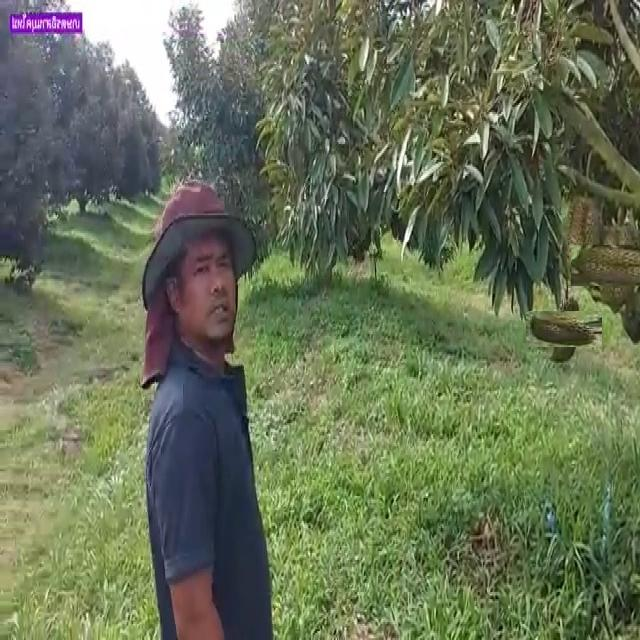durian: (584, 231, 640, 299), (563, 188, 605, 276), (535, 301, 592, 357)
